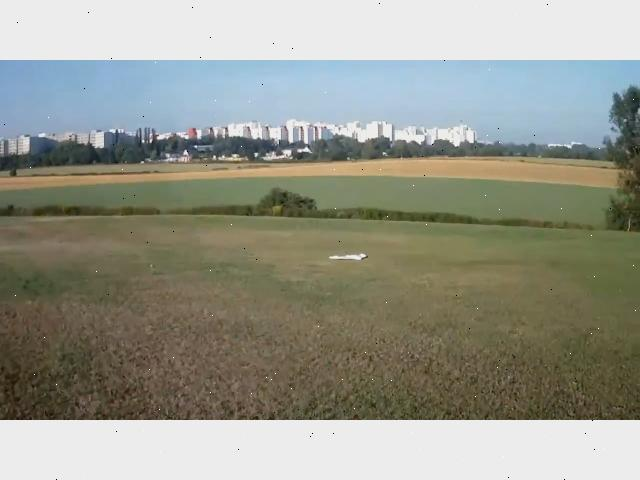Anti-Drone: (328, 240, 372, 268)
